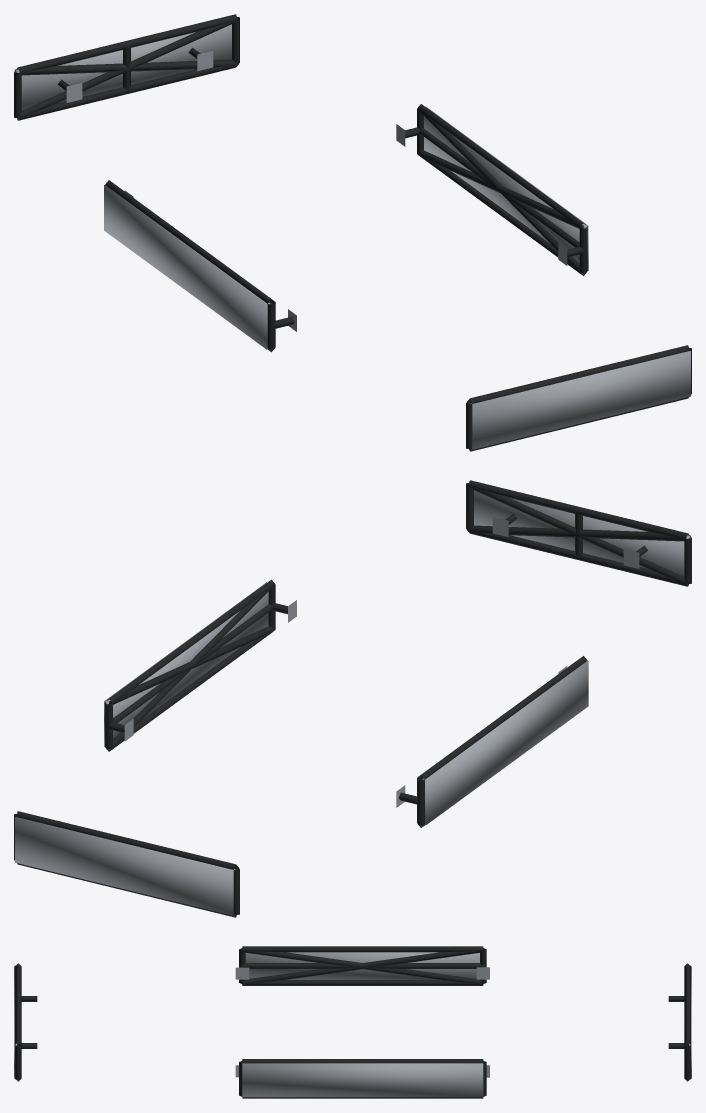
File: kanaya_monolito_protecao.glb
3 views of the same model, one above another, from view 1: azimuth 30°, elevation 25°; view 2: azimuth 150°, elevation 25°; view 3: azimuth 270°, elevation 25° (orthographic). The views are drawn at different scales.
Visible parts, largest first — view 1: Protection_front_Level3_Details, Protection_left_Level3_Details, Protection_rear_Level1_Details, Protection_rear_Level3_Details, Protection_right_Level1_Details, Protection_right_Level2_Details, Protection_rear_Level2_Details, Protection_right_Level3_Details, Protection_front_Level1_Details, Protection_left_Level1_Details; view 2: Protection_rear_Level3_Details, Protection_left_Level3_Details, Protection_front_Level1_Details, Protection_front_Level3_Details, Protection_right_Level1_Details, Protection_right_Level2_Details, Protection_front_Level2_Details, Protection_right_Level3_Details, Protection_rear_Level1_Details, Protection_left_Level1_Details; view 3: Protection_right_Level3_Details, Protection_left_Level2_Details, Protection_left_Level1_Details, Protection_left_Level3_Details, Protection_right_Level1_Details, Protection_rear_Level1_Details, Protection_front_Level1_Details.
Boxes of the visible parts, x1=… form: Protection_front_Level3_Details: x1=470, y1=351, x2=690, y2=449; Protection_left_Level3_Details: x1=104, y1=185, x2=270, y2=349; Protection_rear_Level1_Details: x1=14, y1=14, x2=239, y2=120; Protection_rear_Level3_Details: x1=15, y1=24, x2=231, y2=110; Protection_right_Level1_Details: x1=396, y1=104, x2=587, y2=275; Protection_right_Level2_Details: x1=417, y1=110, x2=586, y2=275; Protection_rear_Level2_Details: x1=16, y1=20, x2=237, y2=119; Protection_right_Level3_Details: x1=424, y1=106, x2=588, y2=270; Protection_front_Level1_Details: x1=466, y1=345, x2=691, y2=451; Protection_left_Level1_Details: x1=105, y1=180, x2=296, y2=352; Protection_rear_Level3_Details: x1=15, y1=817, x2=235, y2=915; Protection_left_Level3_Details: x1=422, y1=660, x2=588, y2=825; Protection_front_Level1_Details: x1=466, y1=480, x2=691, y2=586; Protection_front_Level3_Details: x1=474, y1=490, x2=690, y2=576; Protection_right_Level1_Details: x1=105, y1=579, x2=296, y2=751; Protection_right_Level2_Details: x1=106, y1=585, x2=274, y2=751; Protection_front_Level2_Details: x1=468, y1=486, x2=689, y2=585; Protection_right_Level3_Details: x1=104, y1=582, x2=268, y2=746; Protection_rear_Level1_Details: x1=14, y1=811, x2=239, y2=917; Protection_left_Level1_Details: x1=396, y1=656, x2=587, y2=827; Protection_right_Level3_Details: x1=242, y1=1063, x2=483, y2=1097; Protection_left_Level2_Details: x1=242, y1=950, x2=483, y2=984; Protection_left_Level1_Details: x1=235, y1=946, x2=489, y2=985; Protection_left_Level3_Details: x1=245, y1=952, x2=479, y2=979; Protection_right_Level1_Details: x1=235, y1=1059, x2=489, y2=1098; Protection_rear_Level1_Details: x1=668, y1=963, x2=690, y2=1081; Protection_front_Level1_Details: x1=15, y1=963, x2=37, y2=1081.
Bounding box in the file's own units: 2.23 × 0.354 × 5.49.
1 material, 1 textured.
